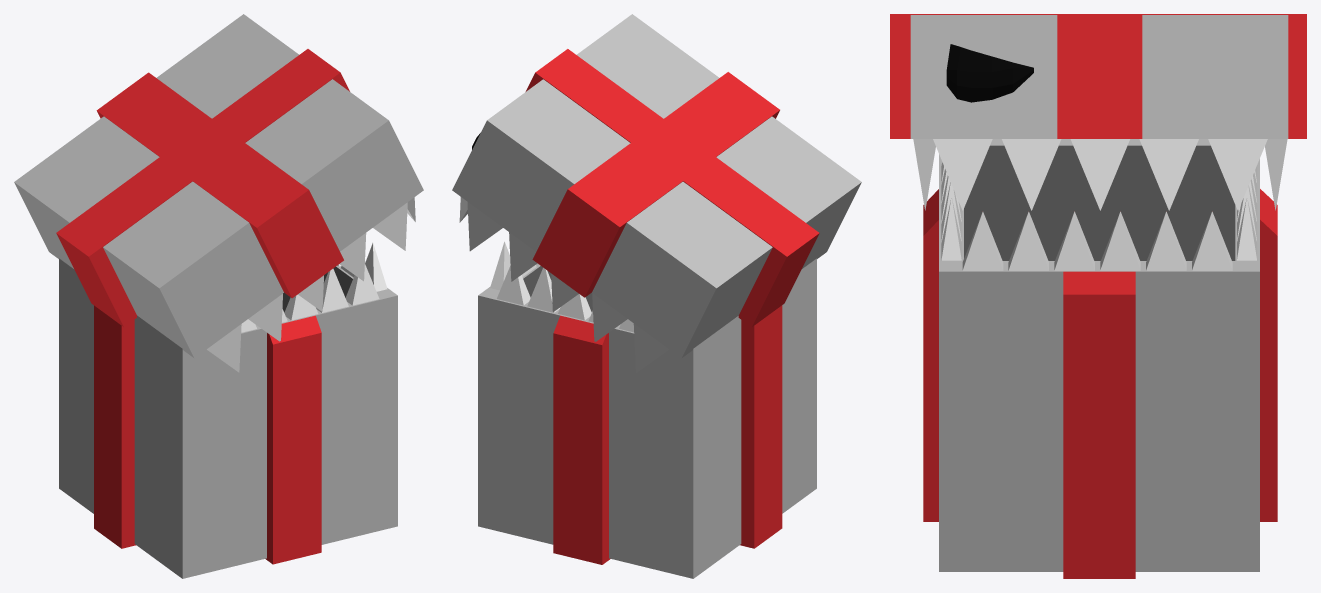
Rendered from RegaloRojoShiny.fbx.
3 renders of one model, left to right at view 1: azimuth 30°, elevation 25°; view 2: azimuth 150°, elevation 25°; view 3: azimuth 270°, elevation 25°, orthographic. The views are drawn at different scales.
Visible parts, largest first — view 1: Cube.010, Cube.009; view 2: Cube.010, Cube.009; view 3: Cube.009, Cube.010.
Part boxes in pixels (box(x1,y1,x2,y2)): Cube.010: box(14, 14, 423, 372); Cube.009: box(59, 243, 397, 578); Cube.010: box(452, 14, 861, 372); Cube.009: box(478, 241, 816, 578); Cube.009: box(923, 139, 1277, 578); Cube.010: box(890, 14, 1306, 210).
Bounding box in the file's own units: 10.46 × 14.62 × 10.
